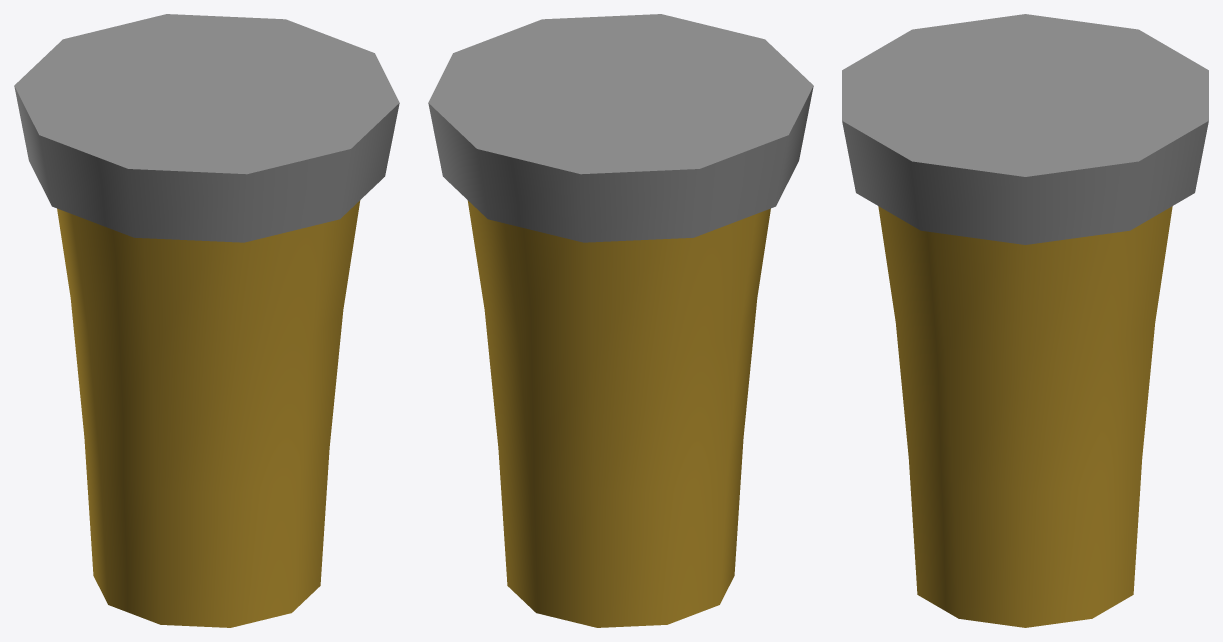
File: jar_drink_01.fbx
3 renders of one model, left to right at view 1: azimuth 30°, elevation 25°; view 2: azimuth 150°, elevation 25°; view 3: azimuth 270°, elevation 25°, orthographic.
Parts seen in each view (by area): view 1: jar_drink_01; view 2: jar_drink_01; view 3: jar_drink_01.
Boxes of the visible parts, left/top/right/bottom form: jar_drink_01: left=14, top=14, right=399, bottom=627; jar_drink_01: left=428, top=14, right=813, bottom=627; jar_drink_01: left=842, top=14, right=1208, bottom=627.
Bounding box in the file's own units: 37.73 × 52.27 × 35.88.
